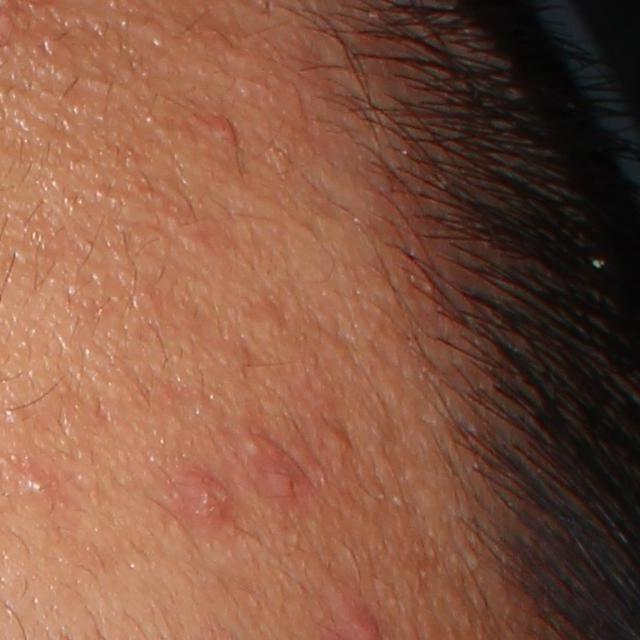papule: (177, 465, 235, 529), (259, 444, 301, 499), (207, 111, 238, 155)
